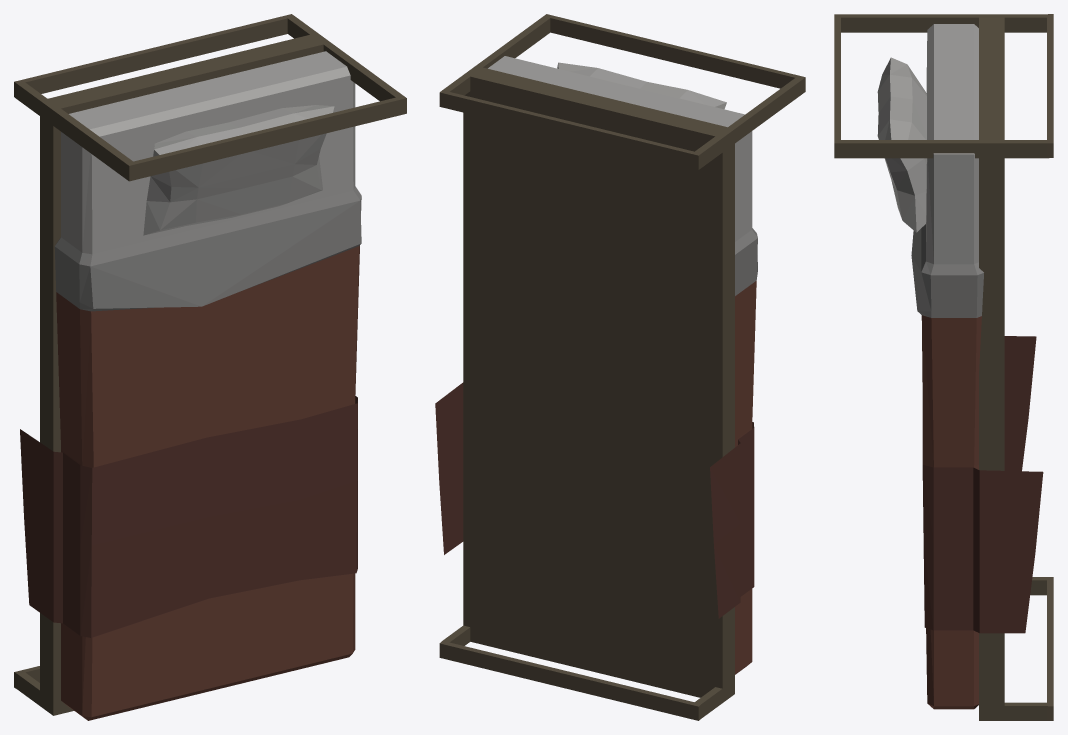
File: bed-twin.obj
3 renders of one model, left to right at view 1: azimuth 30°, elevation 25°; view 2: azimuth 150°, elevation 25°; view 3: azimuth 270°, elevation 25°, orthographic. The views are drawn at different scales.
Visible parts, largest first — view 1: bed-twin; view 2: bed-twin; view 3: bed-twin.
Boxes of the visible parts, <box> form: bed-twin: <box>14,14,406,720</box>; bed-twin: <box>435,14,805,720</box>; bed-twin: <box>834,14,1053,720</box>.
Size of the model in its own units: 42 by 83.61 by 28.75.
